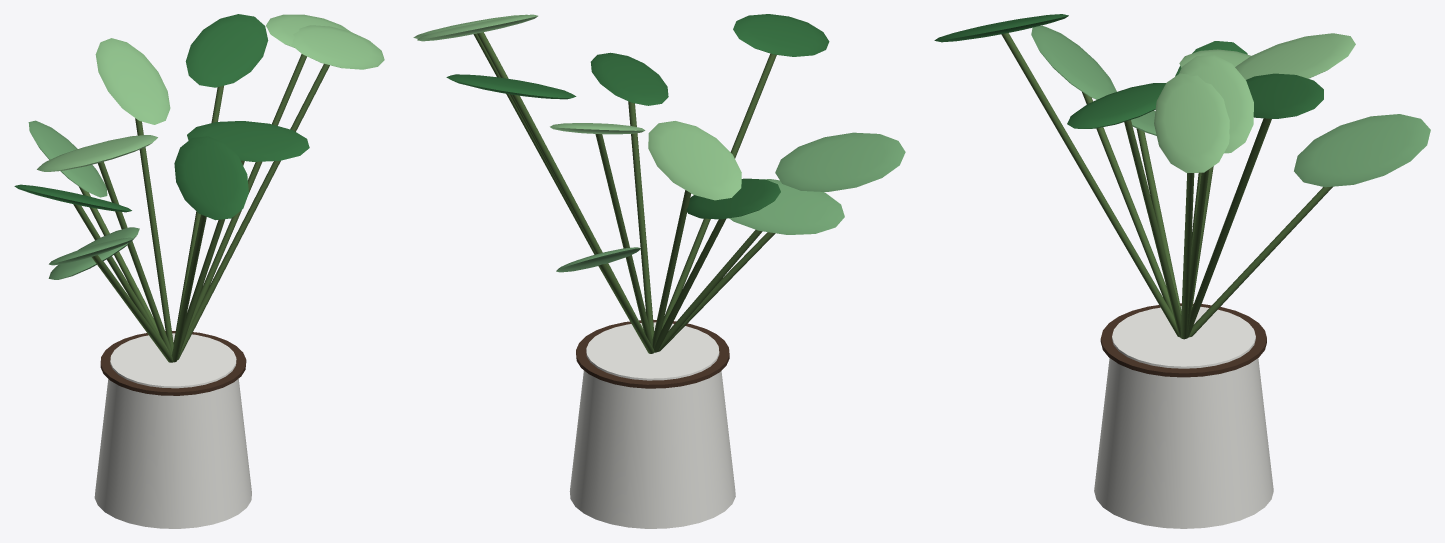
The model's file is floor_plant.fbx.
3 views of the same model, side by side, from view 1: azimuth 30°, elevation 25°; view 2: azimuth 150°, elevation 25°; view 3: azimuth 270°, elevation 25° (orthographic). The views are drawn at different scales.
Visible parts, largest first — view 1: FloorPlant; view 2: FloorPlant; view 3: FloorPlant.
Part boxes in pixels (<box>): FloorPlant: <box>14,14,384,528</box>; FloorPlant: <box>413,14,905,528</box>; FloorPlant: <box>934,14,1430,528</box>.
Size of the model in its own units: 1.16 by 1.21 by 1.11.
